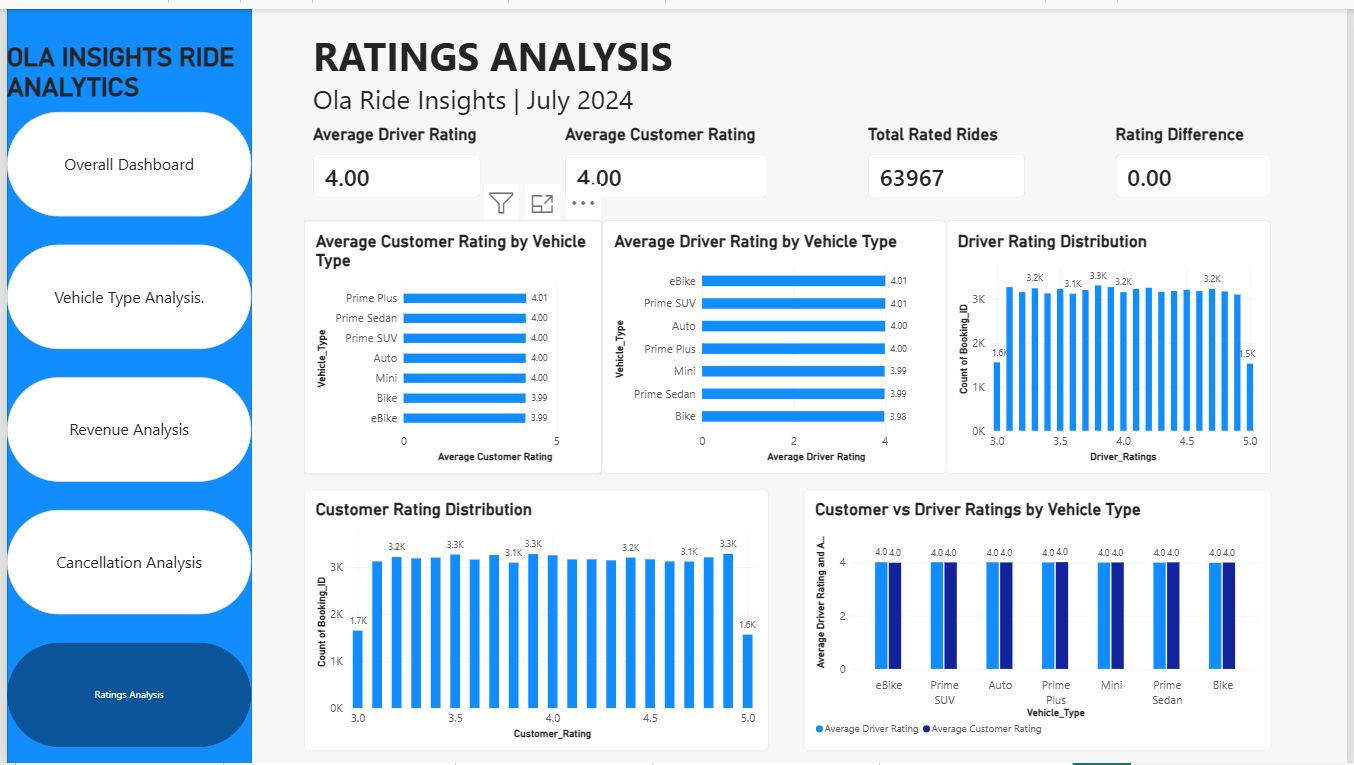

Layout of this report page (visuals, bound fields, positions):
{"tool":"powerbi","page":{"name":"Ratings Analysis","canvas":[1920,1080],"ordinal":4},"visuals":[{"type":"textbox","box":[437.5,27.5,1372.5,137.5],"z":0},{"type":"cardVisual","title":"Average Driver Rating","fields":{"Data":["ola_rides_cleaned.Average Driver Rating"]},"box":[437.5,165,240,105],"z":1},{"type":"cardVisual","title":"Average Customer Rating","fields":{"Data":["ola_rides_cleaned.Average Customer Rating"]},"box":[800,165,290,105],"z":2},{"type":"cardVisual","title":"Total Rated Rides","fields":{"Data":["ola_rides_cleaned.Total Rated Rides"]},"box":[1232.5,165,225,105],"z":3},{"type":"cardVisual","title":"Rating Difference","fields":{"Data":["ola_rides_cleaned.Rating Difference"]},"box":[1587.5,165,222.5,105],"z":4},{"type":"clusteredBarChart","title":"Average Customer Rating by Vehicle Type","fields":{"Category":["ola_rides_cleaned.Vehicle_Type"],"Y":["ola_rides_cleaned.Average Customer Rating"]},"box":[425,302.5,427.5,362.5],"z":5},{"type":"clusteredBarChart","title":"Average Driver Rating by Vehicle Type","fields":{"Category":["ola_rides_cleaned.Vehicle_Type"],"Y":["ola_rides_cleaned.Average Driver Rating"]},"box":[852.5,302.5,492.5,362.5],"z":6},{"type":"clusteredColumnChart","title":"Driver Rating Distribution","fields":{"Category":["ola_rides_cleaned.Driver_Ratings"],"Y":["CountNonNull(ola_rides_cleaned.Booking_ID)"]},"box":[1345,302.5,465,362.5],"z":7},{"type":"clusteredColumnChart","title":"Customer Rating Distribution","fields":{"Category":["ola_rides_cleaned.Customer_Rating"],"Y":["CountNonNull(ola_rides_cleaned.Booking_ID)"]},"box":[425,687.5,665,375],"z":8},{"type":"clusteredColumnChart","title":"Customer vs Driver Ratings by Vehicle Type","fields":{"Category":["ola_rides_cleaned.Vehicle_Type"],"Y":["ola_rides_cleaned.Average Driver Rating","ola_rides_cleaned.Average Customer Rating"]},"box":[1140,687.5,670,375],"z":9},{"type":"shape","box":[0,0,350.7,1080.8],"z":10},{"type":"pageNavigator","title":"OLA INSIGHTS  RIDE ANALYTICS","box":[0,47.7,350.7,1014],"z":11}]}

Visuals, with their boxes in screenshot pixels (x1, y1, x2, y2), scaled from the page's 1920x1080 canvas onto the 1354x765 screenshot:
textbox: crop(309, 19, 1276, 117)
"Average Driver Rating" cardVisual: crop(309, 117, 478, 191)
"Average Customer Rating" cardVisual: crop(564, 117, 769, 191)
"Total Rated Rides" cardVisual: crop(869, 117, 1028, 191)
"Rating Difference" cardVisual: crop(1120, 117, 1276, 191)
"Average Customer Rating by Vehicle Type" clusteredBarChart: crop(300, 214, 601, 471)
"Average Driver Rating by Vehicle Type" clusteredBarChart: crop(601, 214, 949, 471)
"Driver Rating Distribution" clusteredColumnChart: crop(949, 214, 1276, 471)
"Customer Rating Distribution" clusteredColumnChart: crop(300, 487, 769, 753)
"Customer vs Driver Ratings by Vehicle Type" clusteredColumnChart: crop(804, 487, 1276, 753)
shape: crop(0, 0, 247, 764)
"OLA INSIGHTS  RIDE ANALYTICS" pageNavigator: crop(0, 34, 247, 752)
